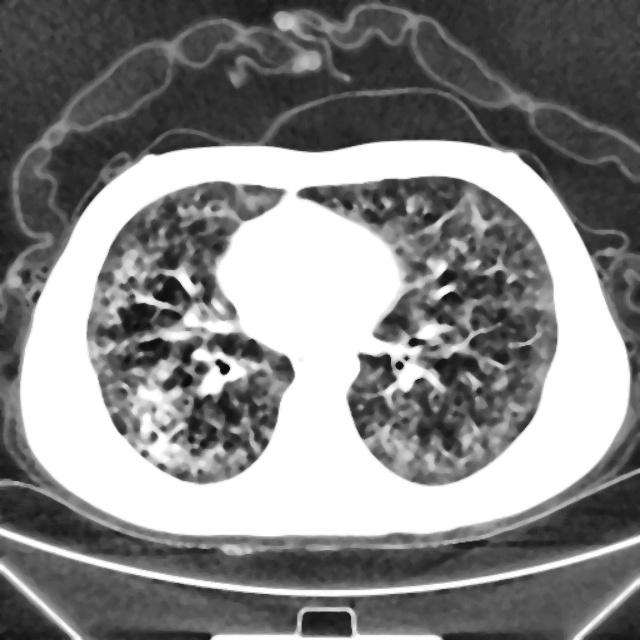covid: (18, 137, 631, 545)
